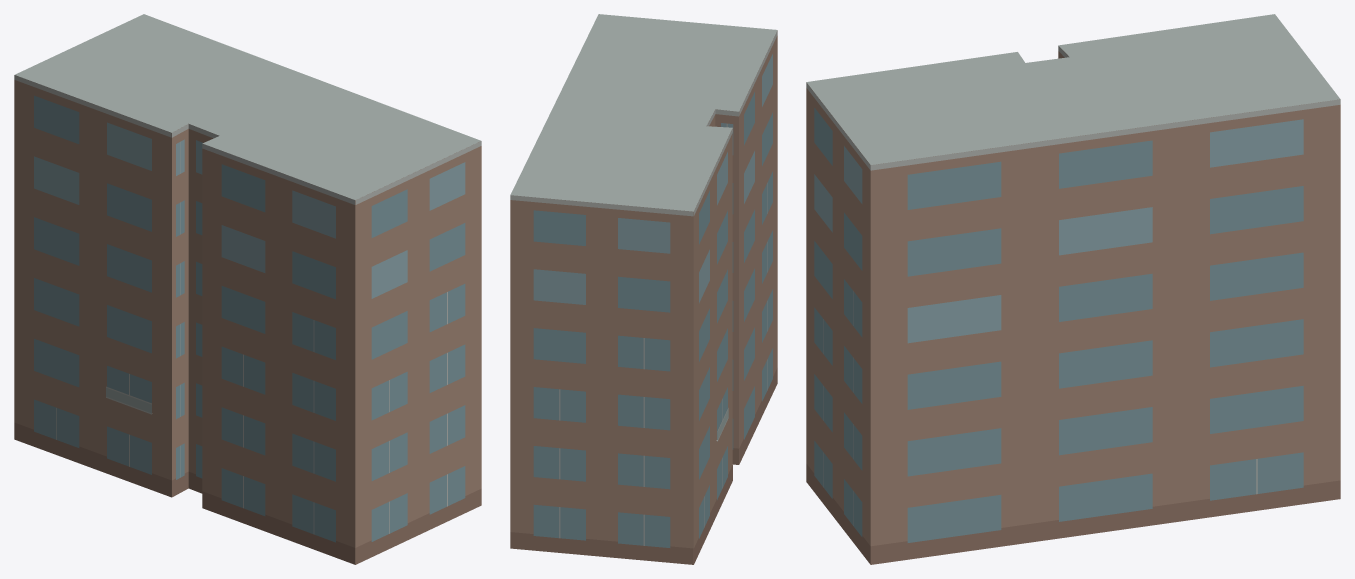
Rendered from survey-upis-33047234.glb.
The picture shows the model from 3 angles, left to right: view 1: azimuth 30°, elevation 25°; view 2: azimuth 150°, elevation 25°; view 3: azimuth 270°, elevation 25°; orthographic projection. The views are drawn at different scales.
Parts seen in each view (by area): view 1: survey-upis-33047234.tmp; view 2: survey-upis-33047234.tmp; view 3: survey-upis-33047234.tmp.
Boxes of the visible parts, left/top/right/bottom form: survey-upis-33047234.tmp: left=14, top=14, right=481, bottom=564; survey-upis-33047234.tmp: left=510, top=14, right=777, bottom=564; survey-upis-33047234.tmp: left=806, top=14, right=1340, bottom=564.
Size of the model in its own units: 14.53 by 17.9 by 21.7.
